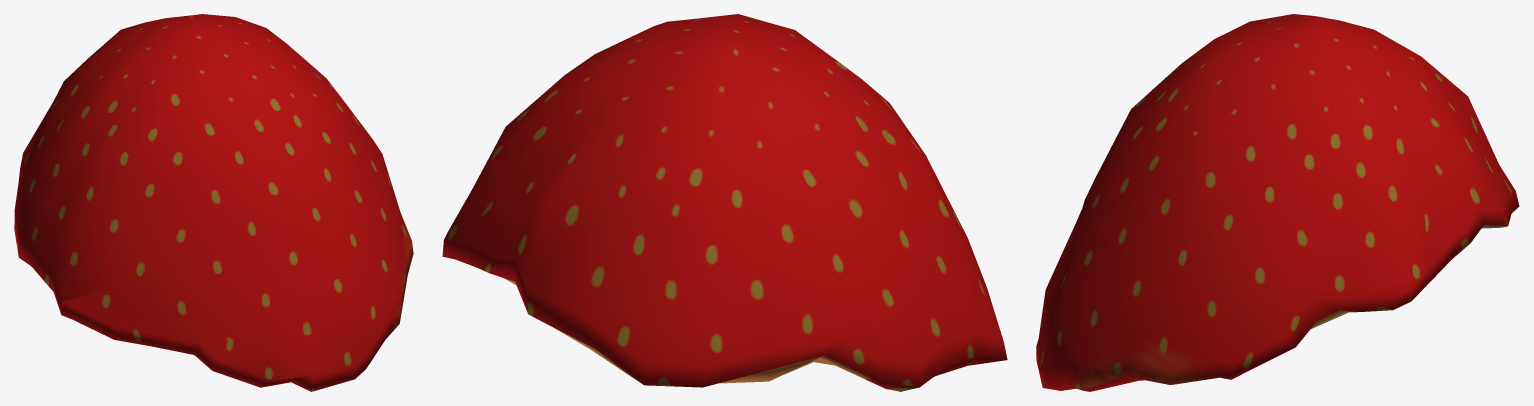
Rendered from PedacitoFruti.fbx.
The picture shows the model from 3 angles, left to right: view 1: azimuth 30°, elevation 25°; view 2: azimuth 150°, elevation 25°; view 3: azimuth 270°, elevation 25°; orthographic projection. The views are drawn at different scales.
Visible parts, largest first — view 1: _low.003; view 2: _low.003; view 3: _low.003.
Part boxes in pixels (left/top/right/bottom): _low.003: left=14, top=14, right=413, bottom=391; _low.003: left=442, top=14, right=1007, bottom=391; _low.003: left=1036, top=14, right=1519, bottom=391.
Size of the model in its own units: 116 by 91.11 by 119.
